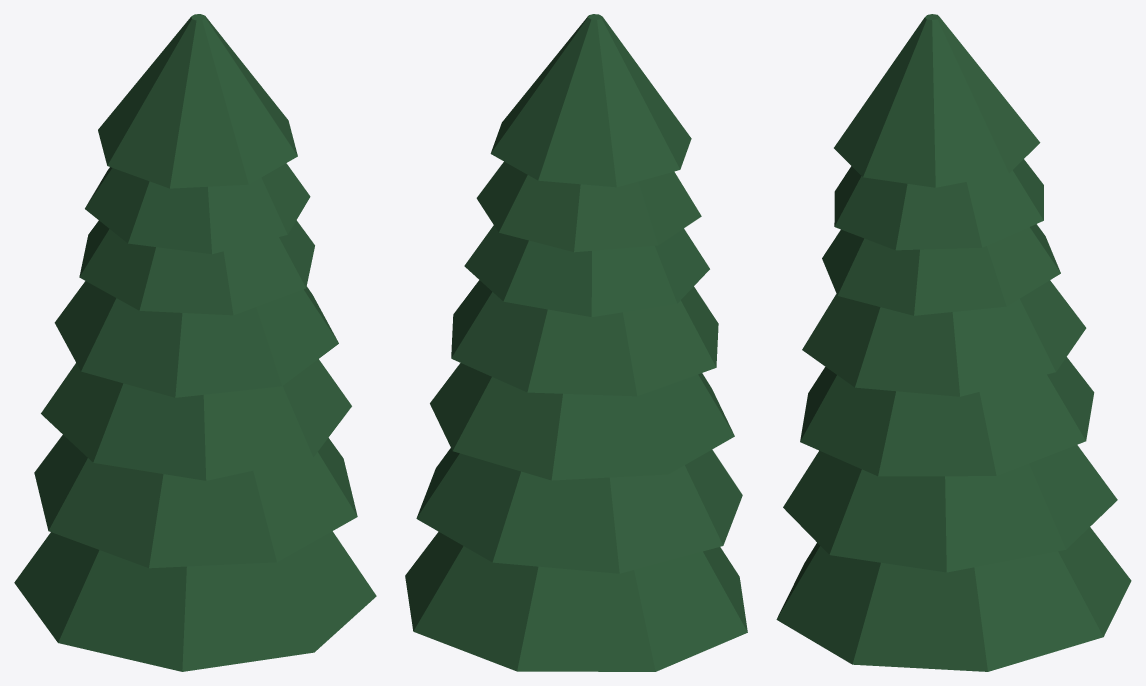
File: Hojas3.glb
The picture shows the model from 3 angles, left to right: view 1: azimuth 30°, elevation 25°; view 2: azimuth 150°, elevation 25°; view 3: azimuth 270°, elevation 25°; orthographic projection.
Visible parts, largest first — view 1: Hojas3.005; view 2: Hojas3.005; view 3: Hojas3.005.
Part boxes in pixels (box(x1,y1,x2,y2)): Hojas3.005: box(14, 14, 376, 671); Hojas3.005: box(405, 14, 747, 671); Hojas3.005: box(776, 14, 1131, 671).
Bounding box in the file's own units: 0.319 × 0.5799 × 0.3188.
